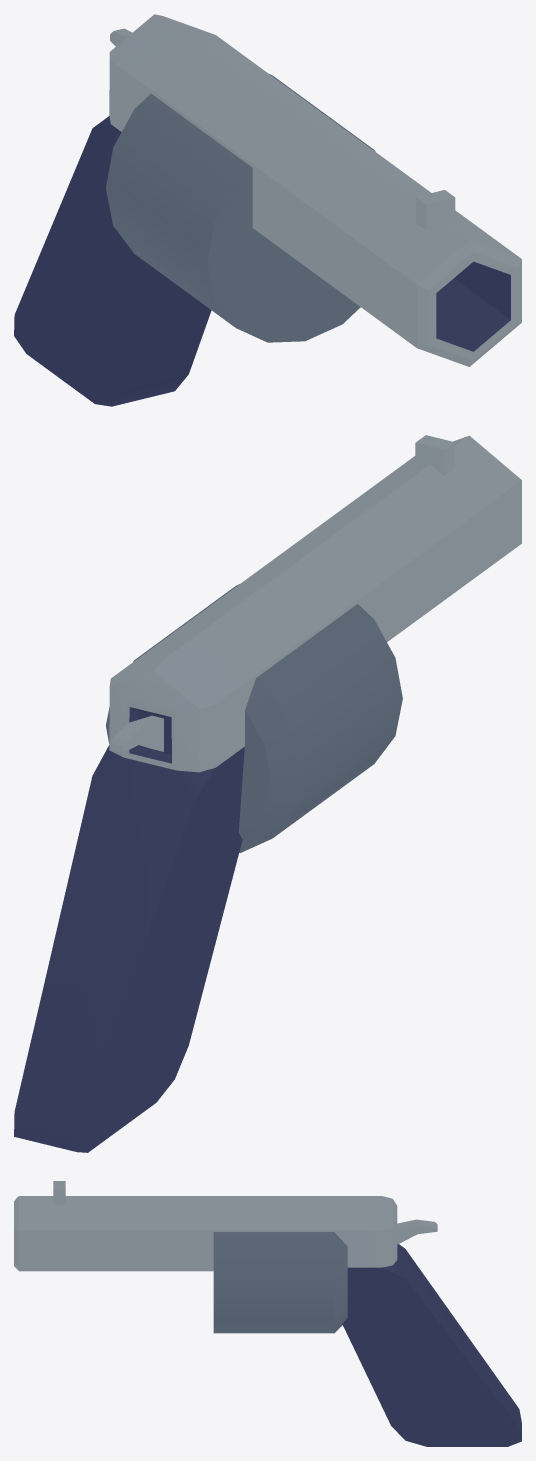
Rendered from revolver.glb.
The picture shows the model from 3 angles, top to bottom: view 1: azimuth 30°, elevation 25°; view 2: azimuth 150°, elevation 25°; view 3: azimuth 270°, elevation 25°; orthographic projection. The views are drawn at different scales.
Visible parts, largest first — view 1: gun; view 2: gun; view 3: gun.
Part boxes in pixels (x1,y1,x2,y2): gun: [14, 14, 521, 406]; gun: [14, 435, 521, 1152]; gun: [14, 1181, 521, 1446].
Size of the model in its own units: 1.5 by 3.13 by 5.7.
